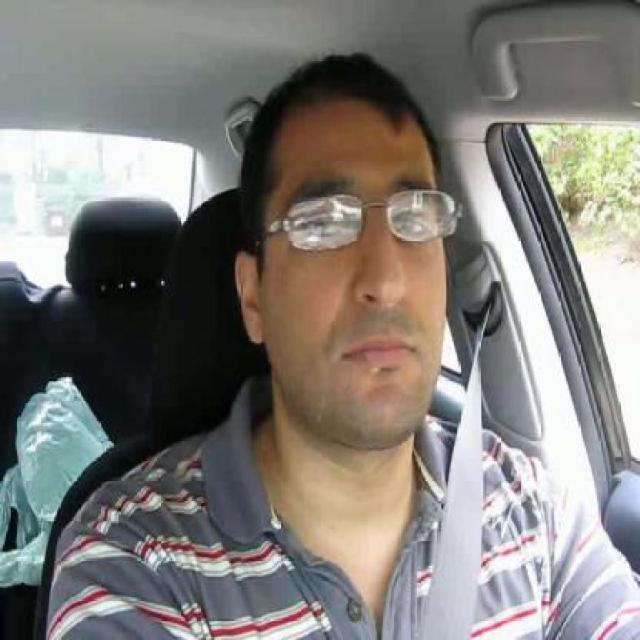awake: (303, 212, 342, 238), (392, 212, 426, 237)
